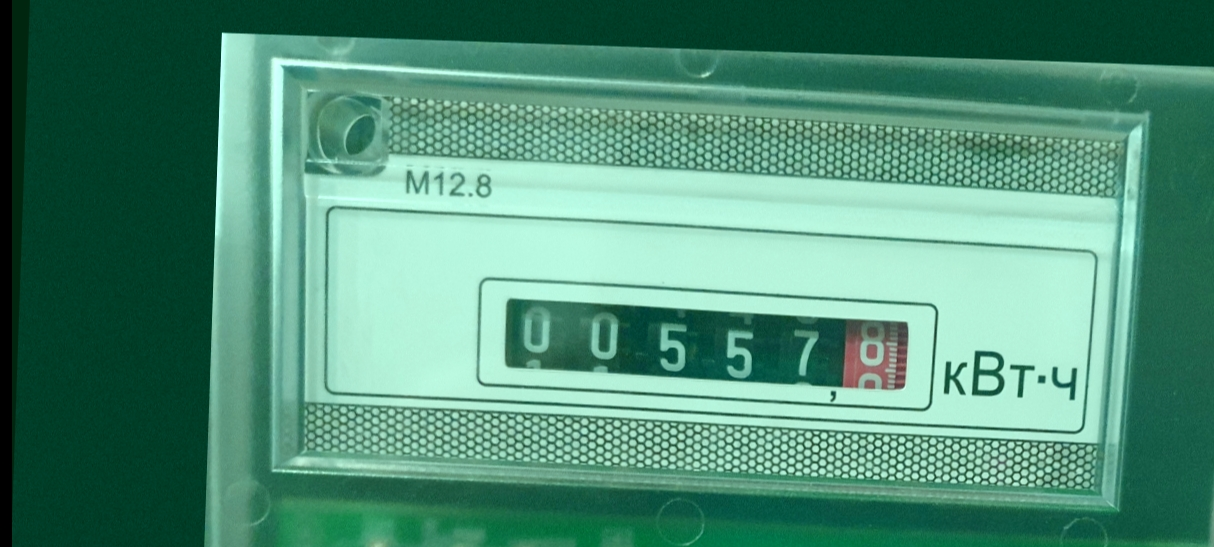0: (518, 299, 554, 357), (586, 307, 621, 360)
5: (720, 321, 759, 381), (654, 316, 690, 374)
7: (785, 323, 820, 379)
8: (857, 318, 887, 368)
screen: (470, 268, 943, 415)
